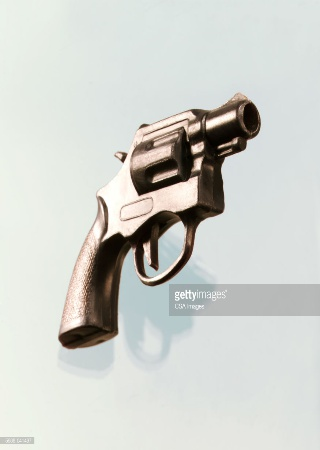handgun: (56, 90, 265, 352)
